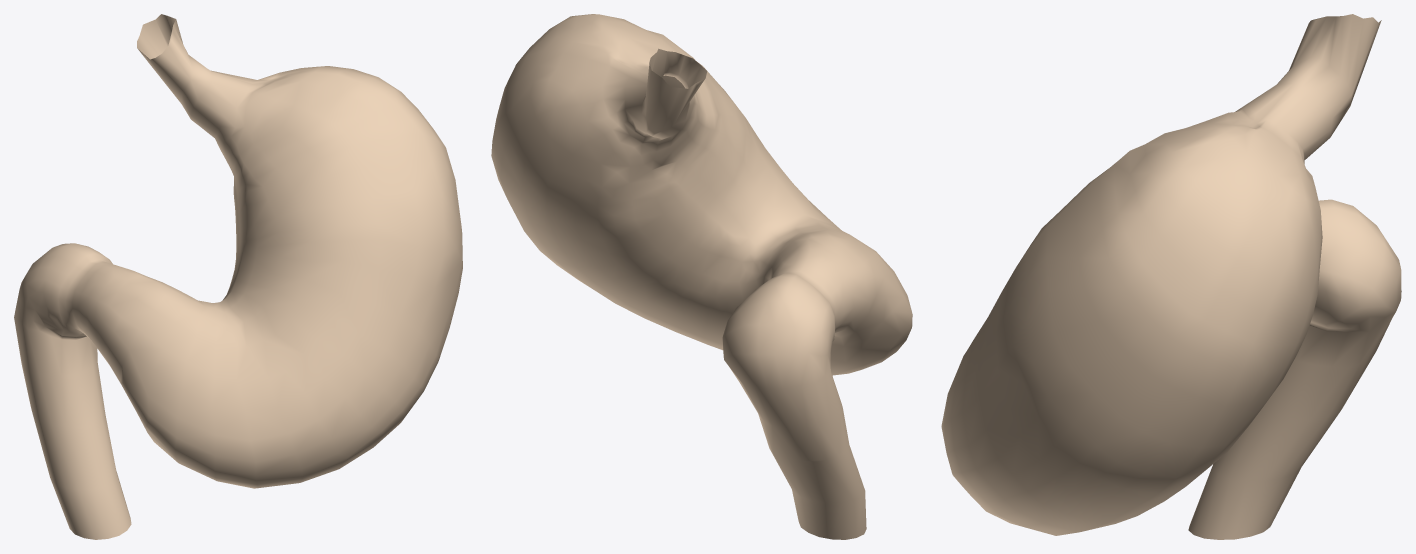
File: estomago.fbx
The picture shows the model from 3 angles, left to right: view 1: azimuth 30°, elevation 25°; view 2: azimuth 150°, elevation 25°; view 3: azimuth 270°, elevation 25°; orthographic projection. The views are drawn at different scales.
Parts seen in each view (by area): view 1: estomago; view 2: estomago; view 3: estomago.
Boxes of the visible parts, x1=… form: estomago: x1=14, y1=14, x2=462, y2=539; estomago: x1=491, y1=14, x2=912, y2=539; estomago: x1=941, y1=14, x2=1401, y2=539.
Size of the model in its own units: 3.04 by 3.59 by 2.53.
